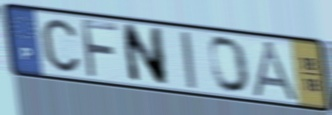A: (250, 39, 303, 103)
C: (40, 16, 82, 74)
F: (78, 17, 121, 81)
I: (178, 29, 199, 91)
N: (119, 22, 170, 88)
O: (208, 35, 253, 96)
